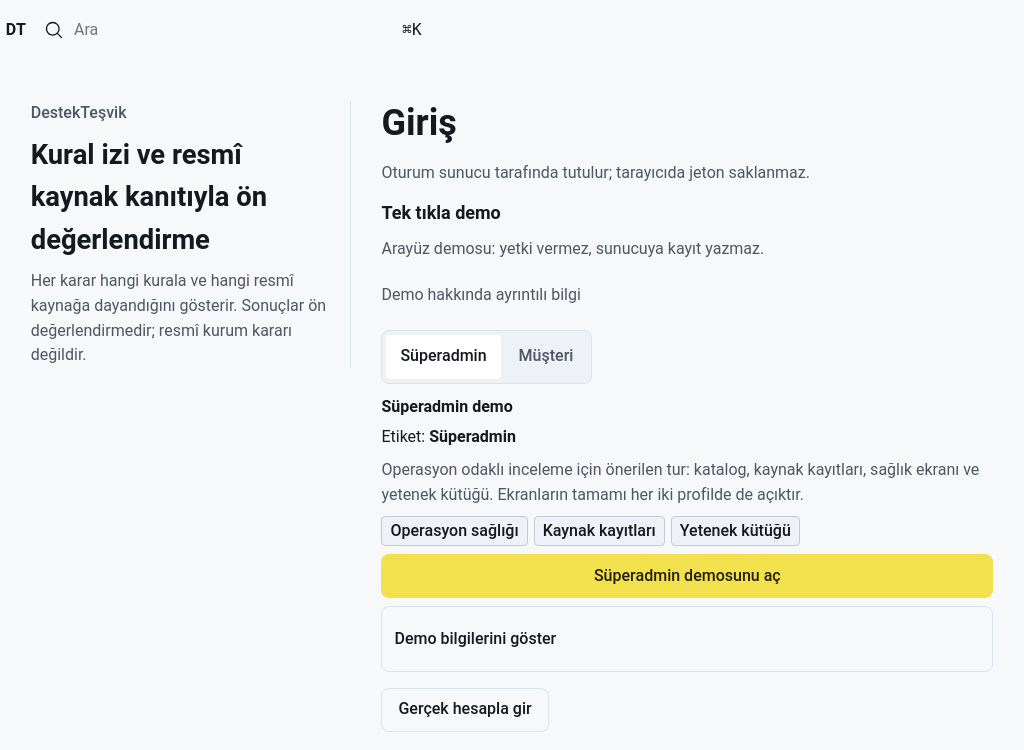
Test: the login screen offers two named demo profiles › reveals the selected profile's e-mail and password behind an explicit disclosure
Click the heading "Demo bilgilerini göster". click: (475, 638)
box: x1=394 y1=629 x2=556 y2=648
(page scrolled)
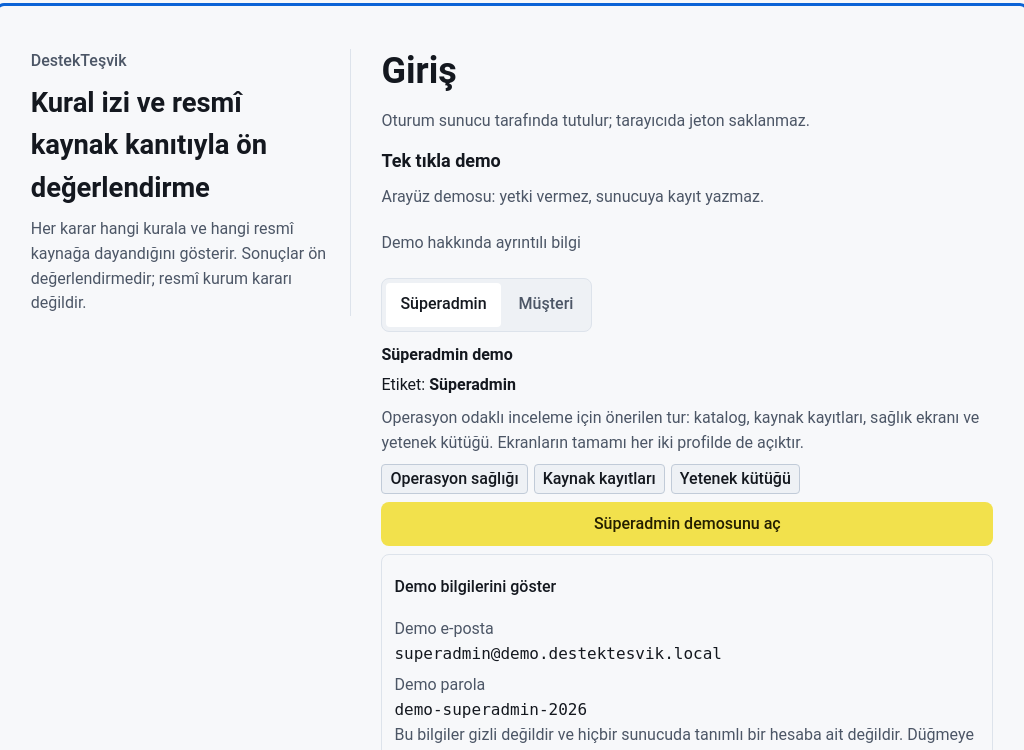
Check: the text "superadmin@demo.destektesvik.local" is shown, box x1=394 y1=644 x2=722 y2=663
Check: the text "demo-superadmin-2026" is shown, box x1=394 y1=700 x2=587 y2=719
